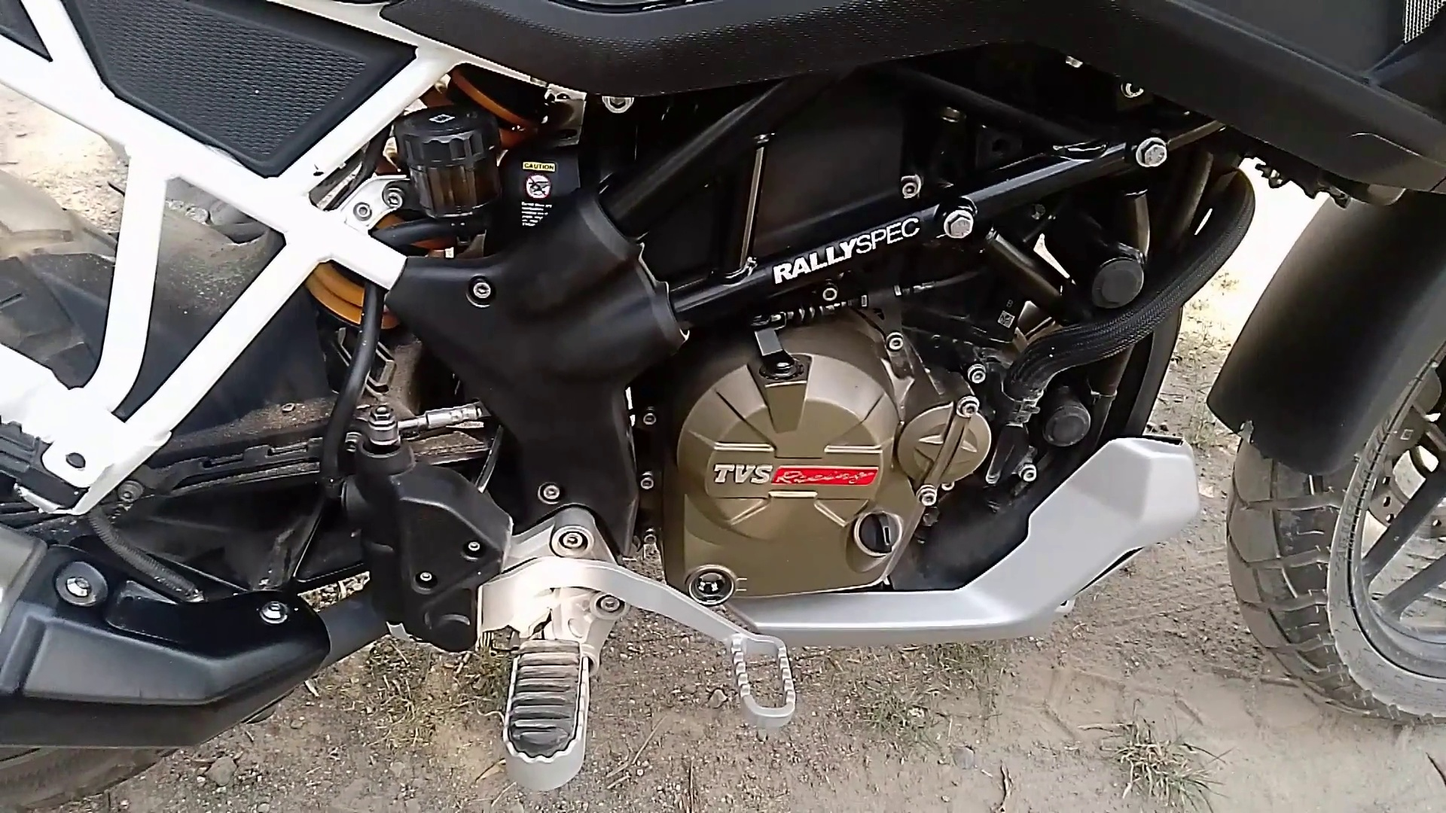engine: (636, 228, 1019, 632)
oil_cap: (853, 486, 911, 574)
oil_marker: (672, 546, 763, 615)
